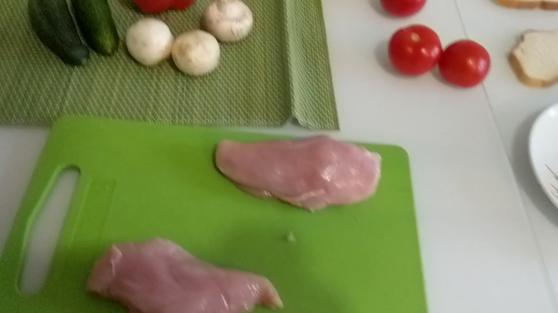champignon: (171, 27, 222, 77), (127, 15, 172, 67), (204, 1, 254, 42)
chicken_fillet: (84, 233, 284, 313), (218, 130, 382, 210)
cucumber: (24, 1, 90, 65), (77, 1, 122, 53)
onion: (438, 35, 492, 87), (390, 23, 440, 69)
white_bread: (511, 27, 558, 84)
